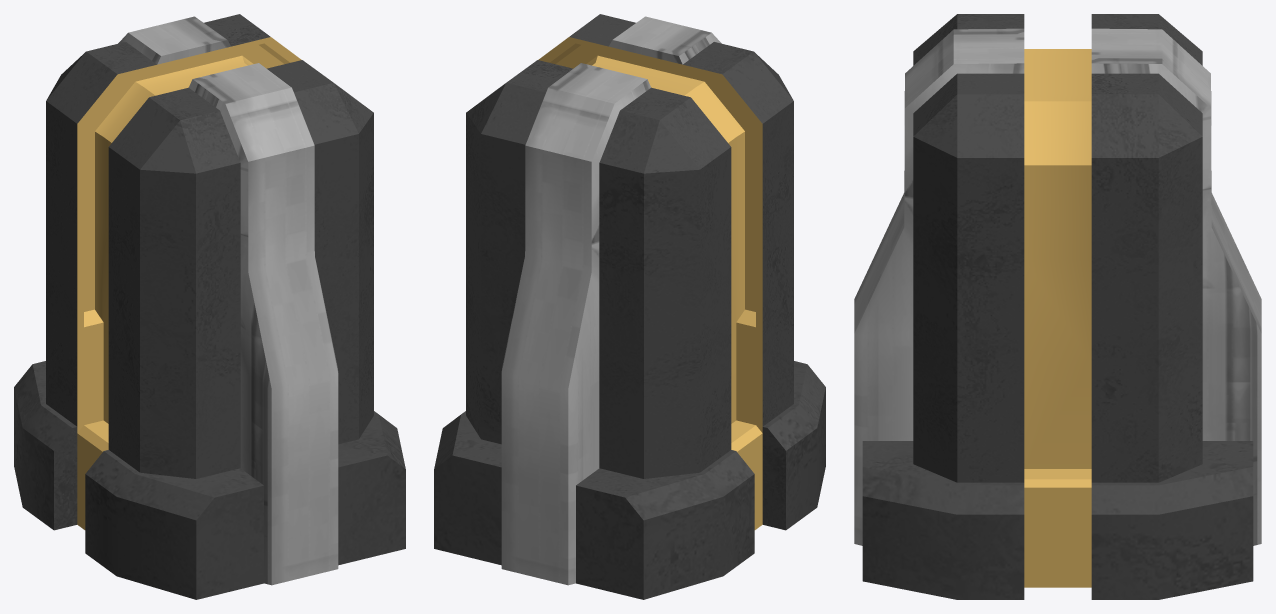
The model's file is NB_simple_building_1.fbx.
3 views of the same model, side by side, from view 1: azimuth 30°, elevation 25°; view 2: azimuth 150°, elevation 25°; view 3: azimuth 270°, elevation 25° (orthographic). The views are drawn at different scales.
Parts seen in each view (by area): view 1: NB_simple_building_1; view 2: NB_simple_building_1; view 3: NB_simple_building_1.
Boxes of the visible parts, box(x1,y1,x2,y2) form: NB_simple_building_1: box(14, 14, 405, 599); NB_simple_building_1: box(434, 14, 825, 599); NB_simple_building_1: box(854, 14, 1261, 599).
Size of the model in its own units: 300 by 458 by 352.
